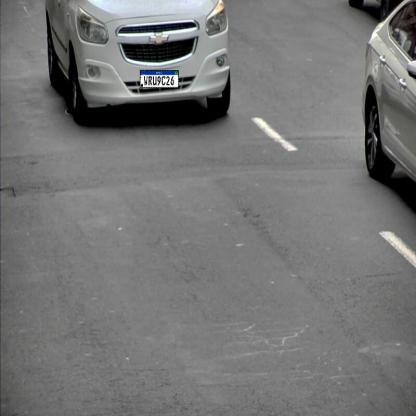PlacaM: (140, 70, 179, 88)
